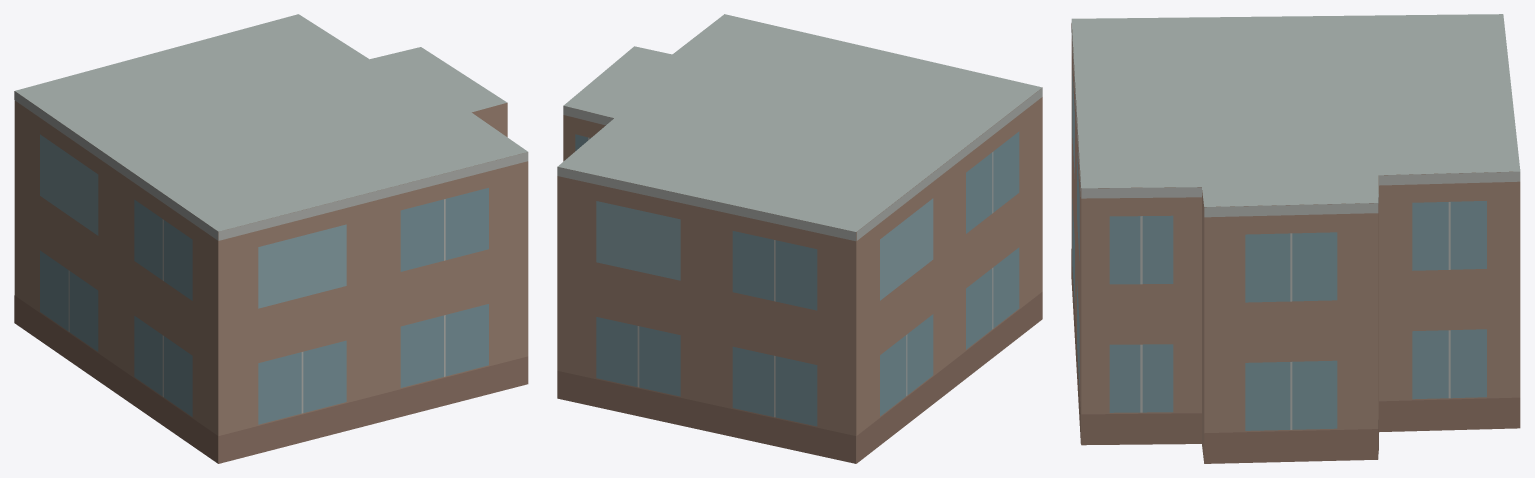
Rendered from survey-upis-32808330.glb.
The picture shows the model from 3 angles, left to right: view 1: azimuth 30°, elevation 25°; view 2: azimuth 150°, elevation 25°; view 3: azimuth 270°, elevation 25°; orthographic projection. The views are drawn at different scales.
Visible parts, largest first — view 1: survey-upis-32808330.tmp; view 2: survey-upis-32808330.tmp; view 3: survey-upis-32808330.tmp.
Part boxes in pixels (x1=…): survey-upis-32808330.tmp: x1=14, y1=14, x2=528, y2=463; survey-upis-32808330.tmp: x1=557, y1=14, x2=1042, y2=463; survey-upis-32808330.tmp: x1=1071, y1=14, x2=1520, y2=463.
Bounding box in the file's own units: 9.84 × 6.1 × 9.68.
